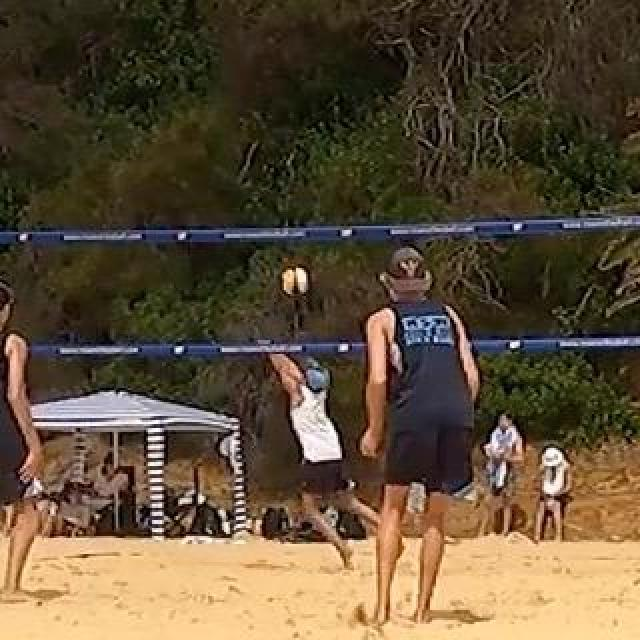volleyball: (281, 267, 309, 295)
